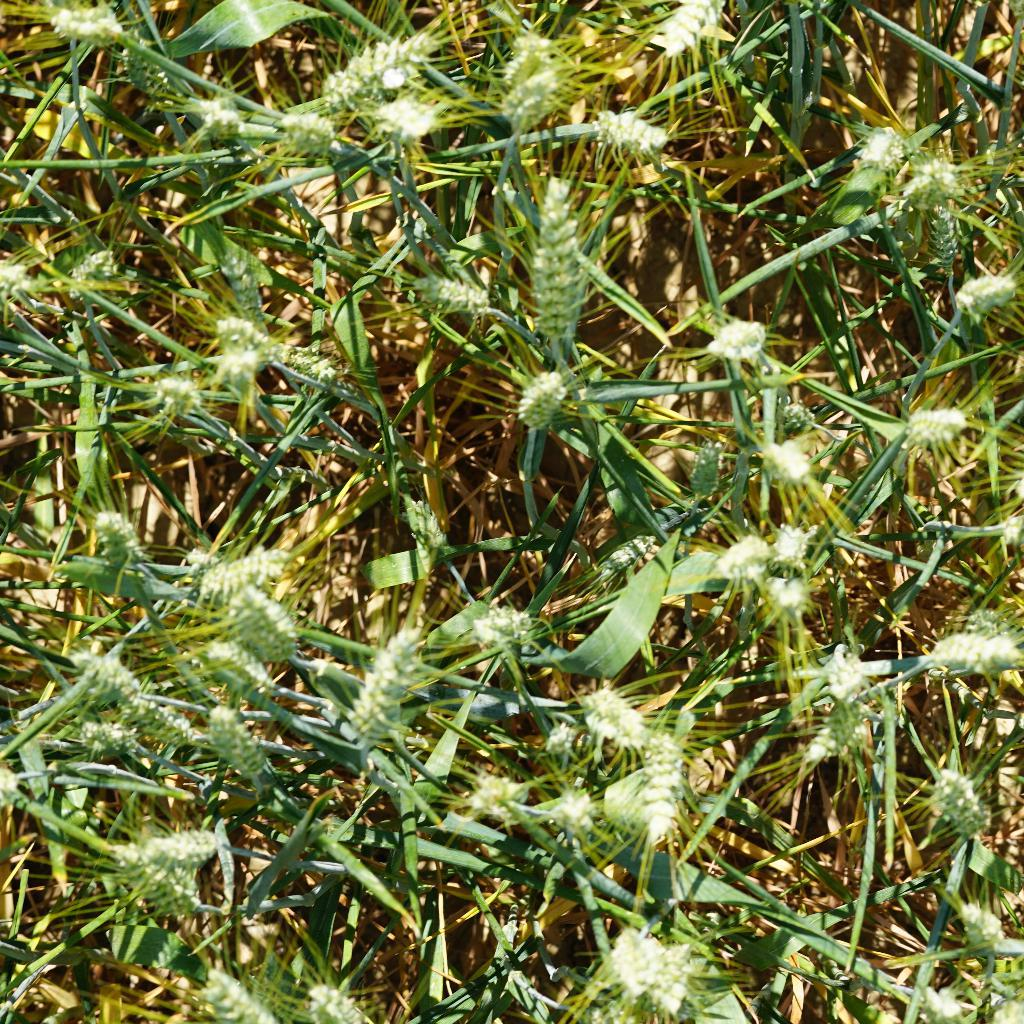0-0: (520, 182, 594, 346), (346, 616, 426, 747), (216, 579, 318, 671), (612, 737, 697, 844), (187, 697, 280, 784), (209, 241, 279, 345), (630, 0, 744, 63), (63, 499, 156, 576), (126, 860, 239, 922), (798, 692, 877, 780), (198, 968, 322, 1024), (178, 546, 298, 602), (124, 688, 206, 769), (490, 37, 561, 129), (178, 636, 281, 699), (320, 38, 444, 89), (914, 626, 1024, 681), (698, 306, 784, 376), (126, 821, 240, 871), (146, 363, 231, 430), (752, 423, 834, 492), (70, 703, 159, 766), (922, 766, 989, 849), (496, 363, 574, 433), (576, 677, 656, 743), (634, 942, 698, 1024), (591, 522, 664, 592), (467, 598, 552, 656), (413, 260, 501, 316), (585, 101, 673, 156), (105, 17, 172, 89), (598, 916, 658, 996), (892, 145, 960, 215), (456, 766, 527, 832), (67, 646, 146, 705), (210, 346, 292, 402), (33, 0, 122, 51), (959, 892, 1019, 965), (64, 247, 135, 306), (271, 107, 346, 160), (539, 780, 602, 843), (925, 206, 985, 269), (840, 109, 904, 167), (908, 400, 982, 449), (751, 575, 826, 623), (953, 265, 1011, 325), (281, 342, 352, 391), (378, 93, 455, 138), (406, 489, 455, 559), (183, 96, 250, 144), (676, 432, 725, 497), (757, 518, 818, 570), (817, 635, 874, 690), (301, 980, 372, 1024), (533, 706, 589, 761), (914, 980, 968, 1024), (769, 395, 822, 439), (709, 529, 762, 572), (209, 320, 281, 351)
